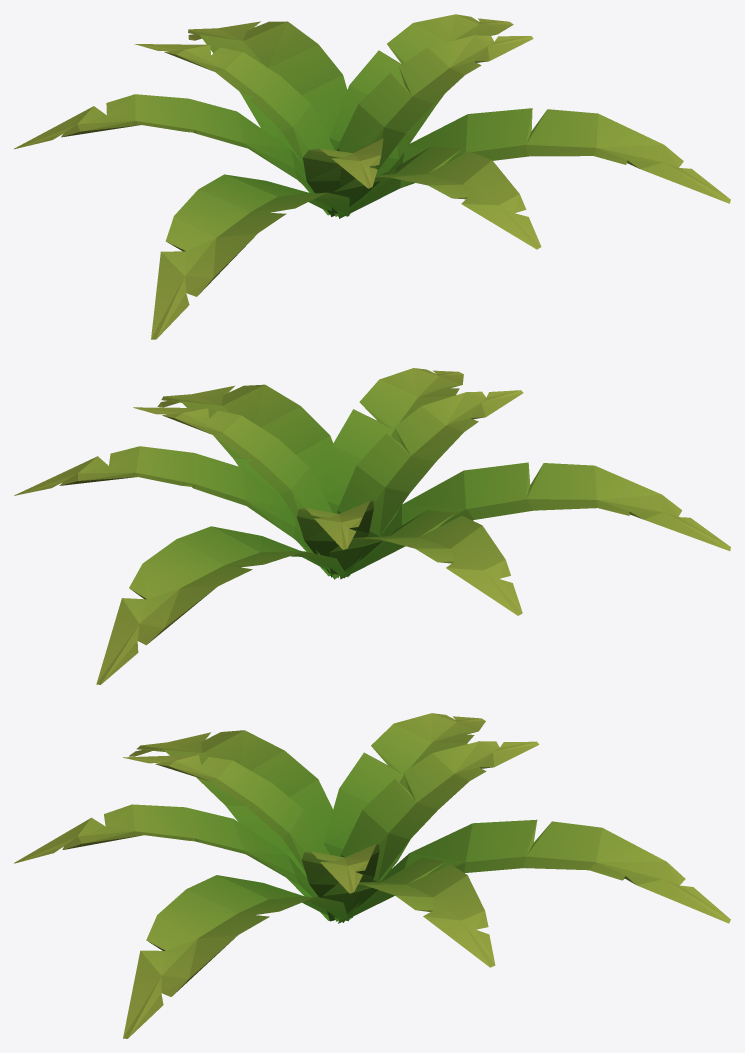
Rendered from Plant_02.fbx.
The picture shows the model from 3 angles, top to bottom: view 1: azimuth 30°, elevation 25°; view 2: azimuth 150°, elevation 25°; view 3: azimuth 270°, elevation 25°; orthographic projection.
Visible parts, largest first — view 1: Plant_02; view 2: Plant_02; view 3: Plant_02.
Boxes of the visible parts, x1,y1,x2,y2 form: Plant_02: (14, 14, 730, 339); Plant_02: (14, 368, 730, 684); Plant_02: (14, 713, 730, 1038).
Bounding box in the file's own units: 118 × 25.92 × 127.
